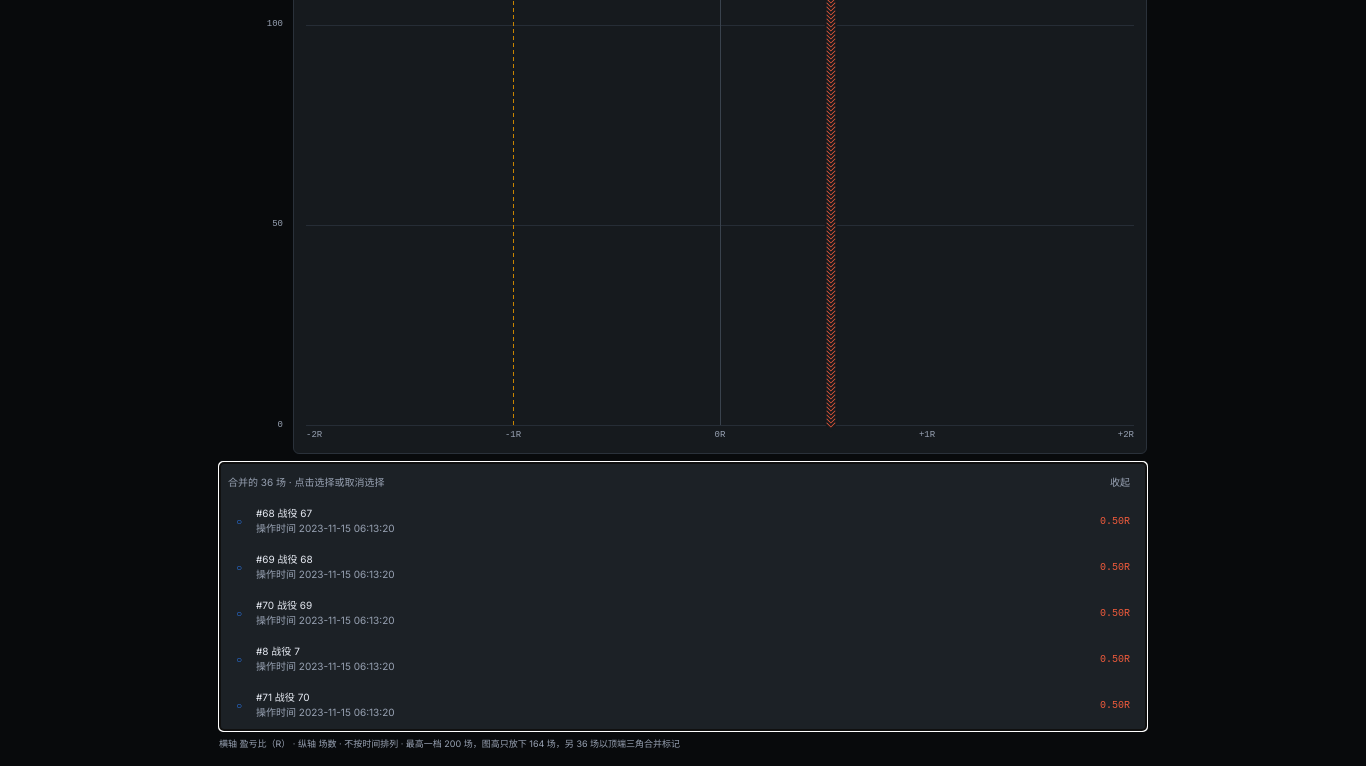
Test case: CampaignMetricScatterPlot batch selection › opens overflow to select actual hidden campaign IDs, including keyboard deselection
Earlier steps of the test are not shown.
(page scrolled)
Step 1. Click the button "○ #68 战役 67 操作时间 2023-11-15 06:13:20 0.50R" → x=284, y=513, box [228,498,1138,544]
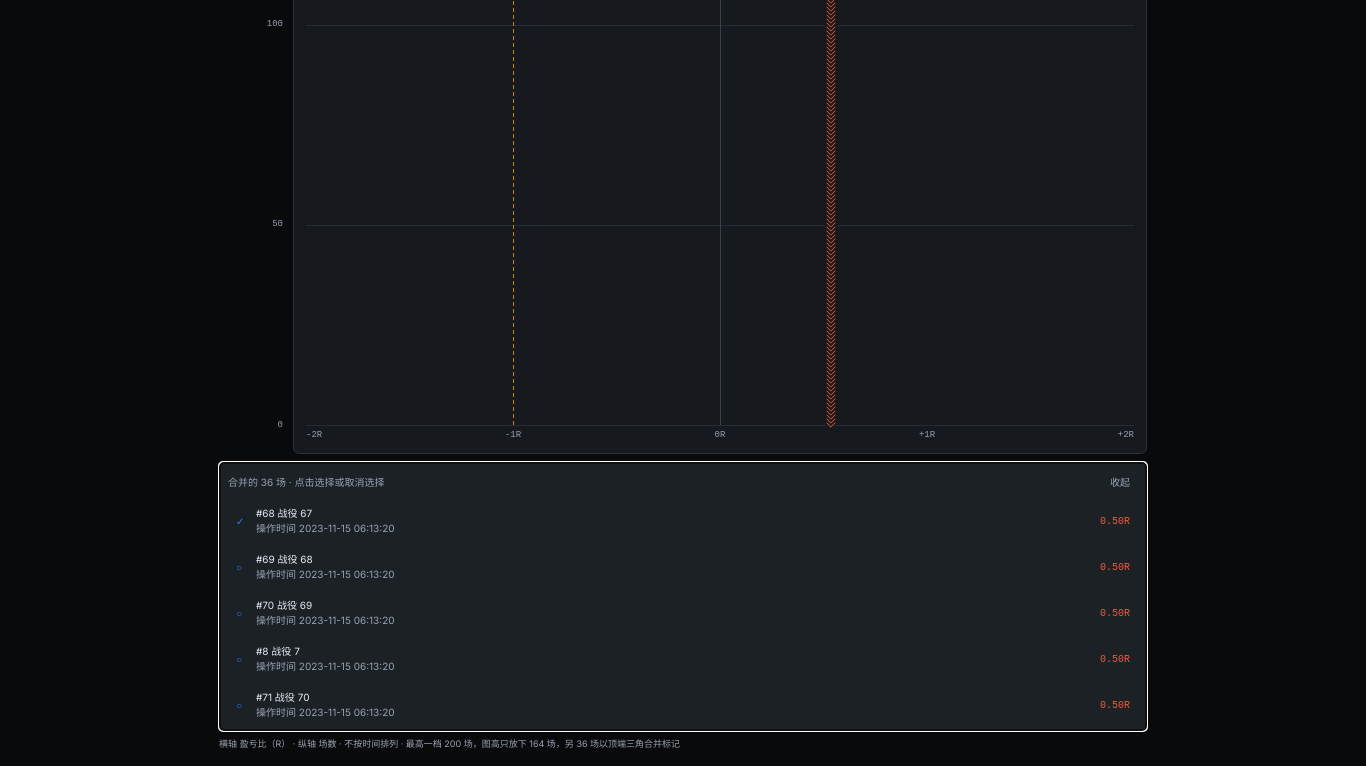
Step 2. Press Space in the button "✓ #68 战役 67 操作时间 2023-11-15 06:13:20 0.50R", box [228,498,1138,544]
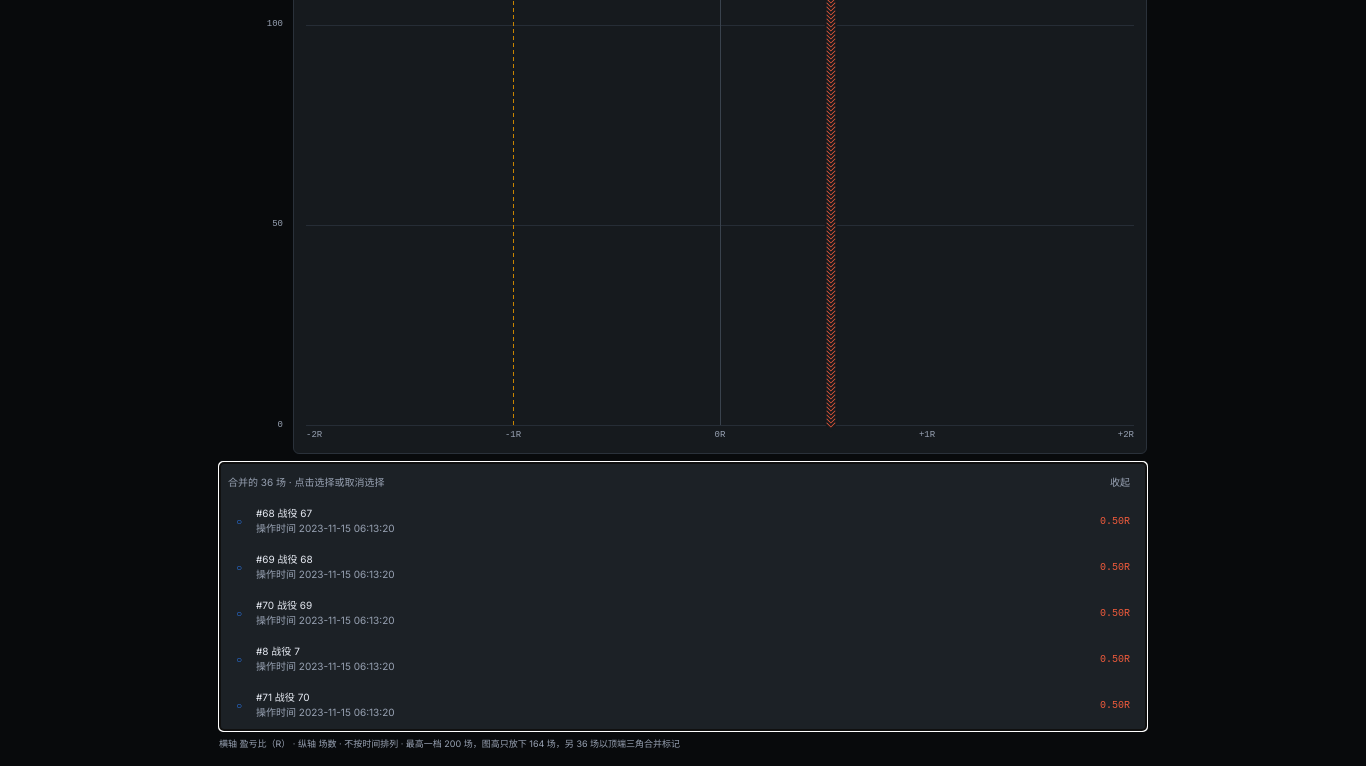
Step 3. Press Enter in the button "○ #68 战役 67 操作时间 2023-11-15 06:13:20 0.50R", box [228,498,1138,544]
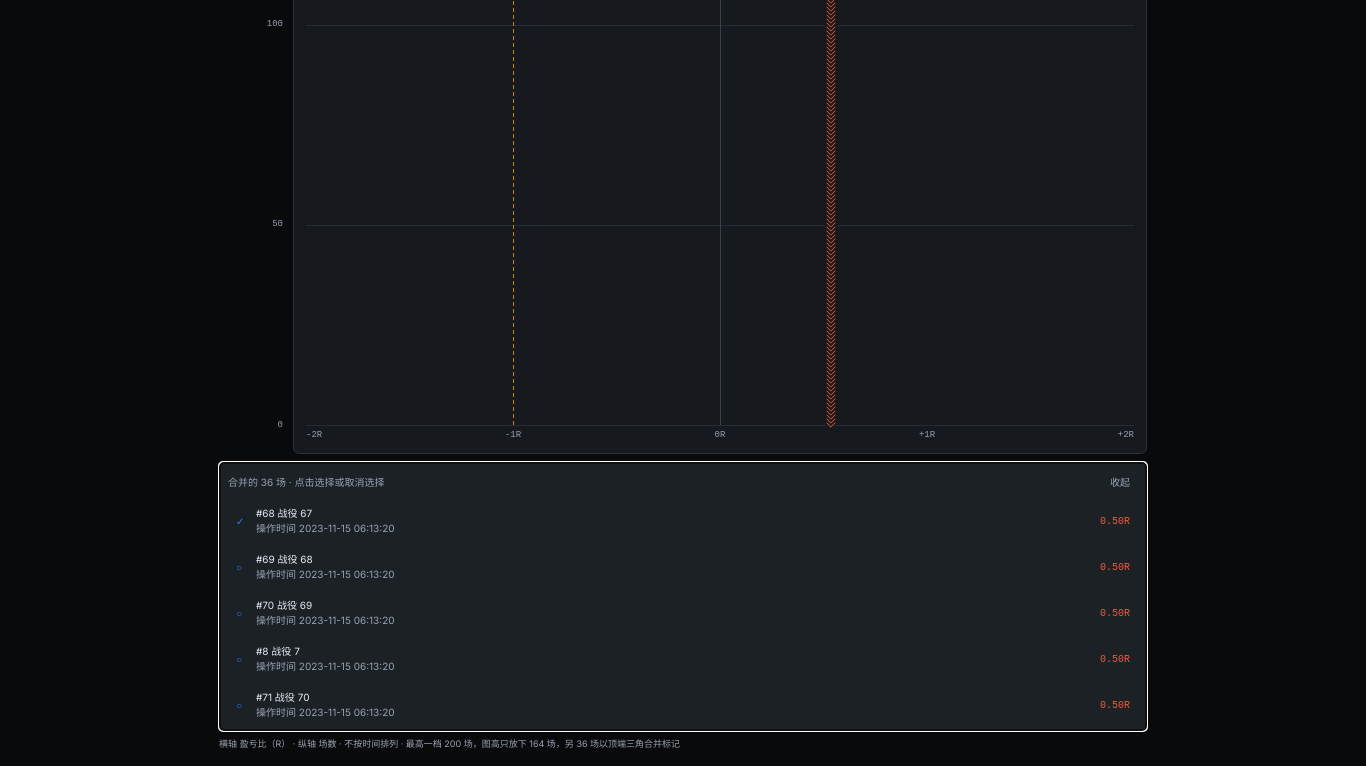
Step 4. Click the button "收起" → x=1120, y=482, box [1102,471,1138,494]
(page scrolled)
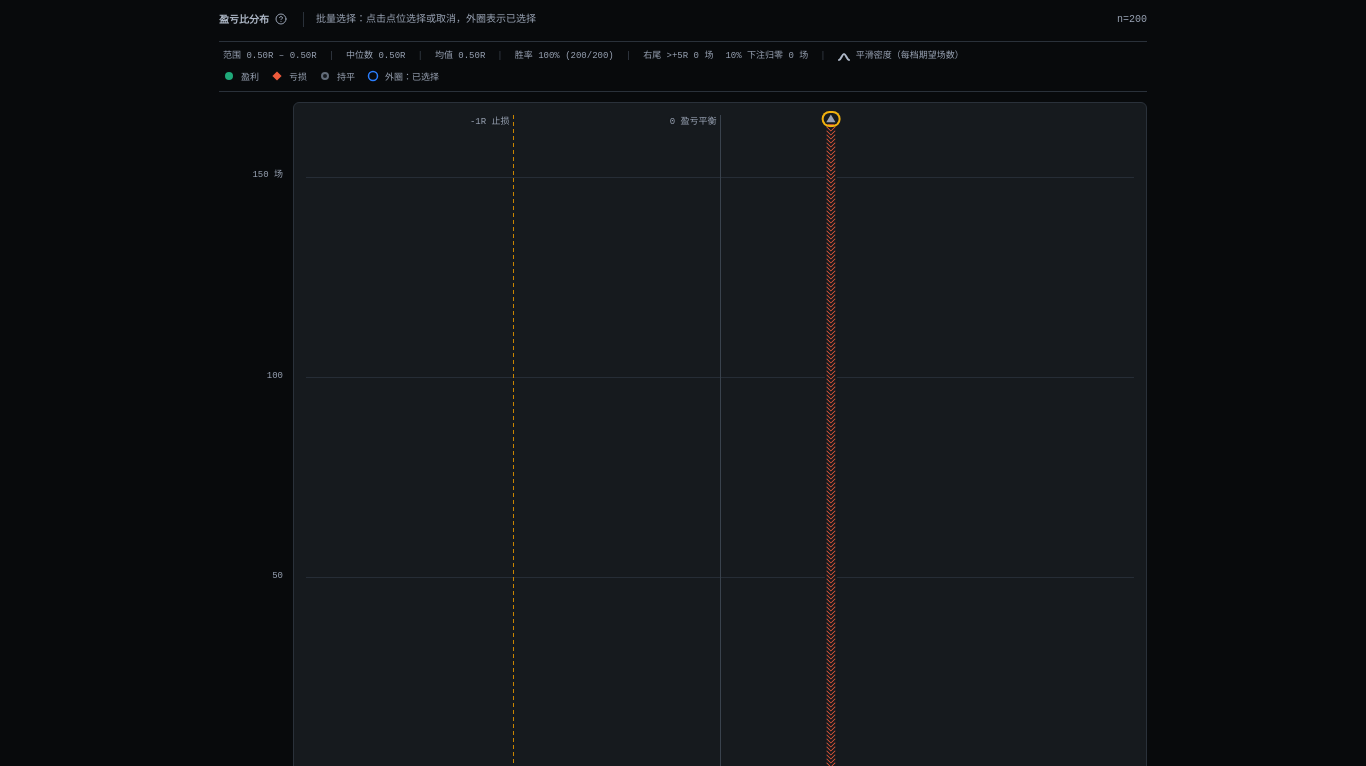
Result: the element with test id "chart-overflow-picker" is gone
Step 5. Click the button with test id "chart-stack-overflow-hit" → x=831, y=119, box [824,113,838,125]
(page scrolled)
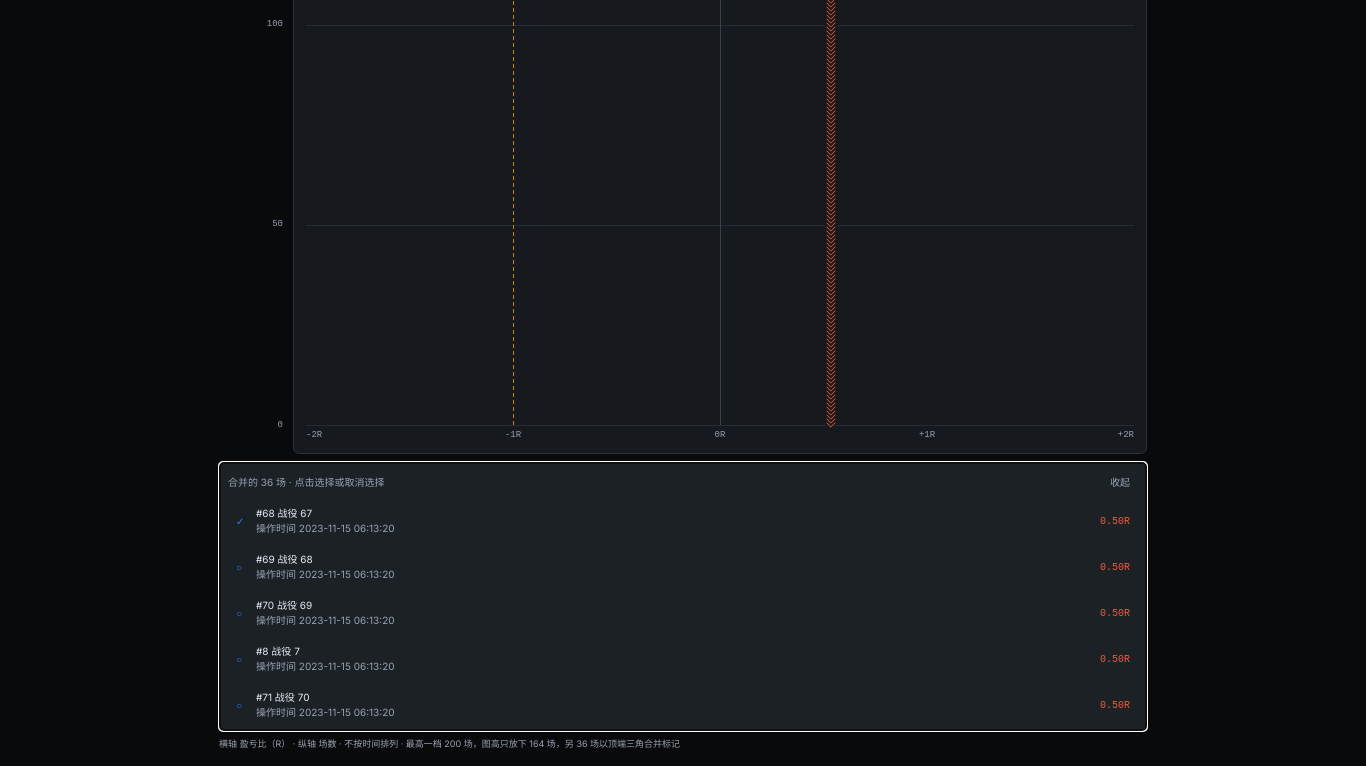
Step 6. Press Escape in the element with test id "chart-overflow-picker", box [219,462,1147,731]
(page scrolled)
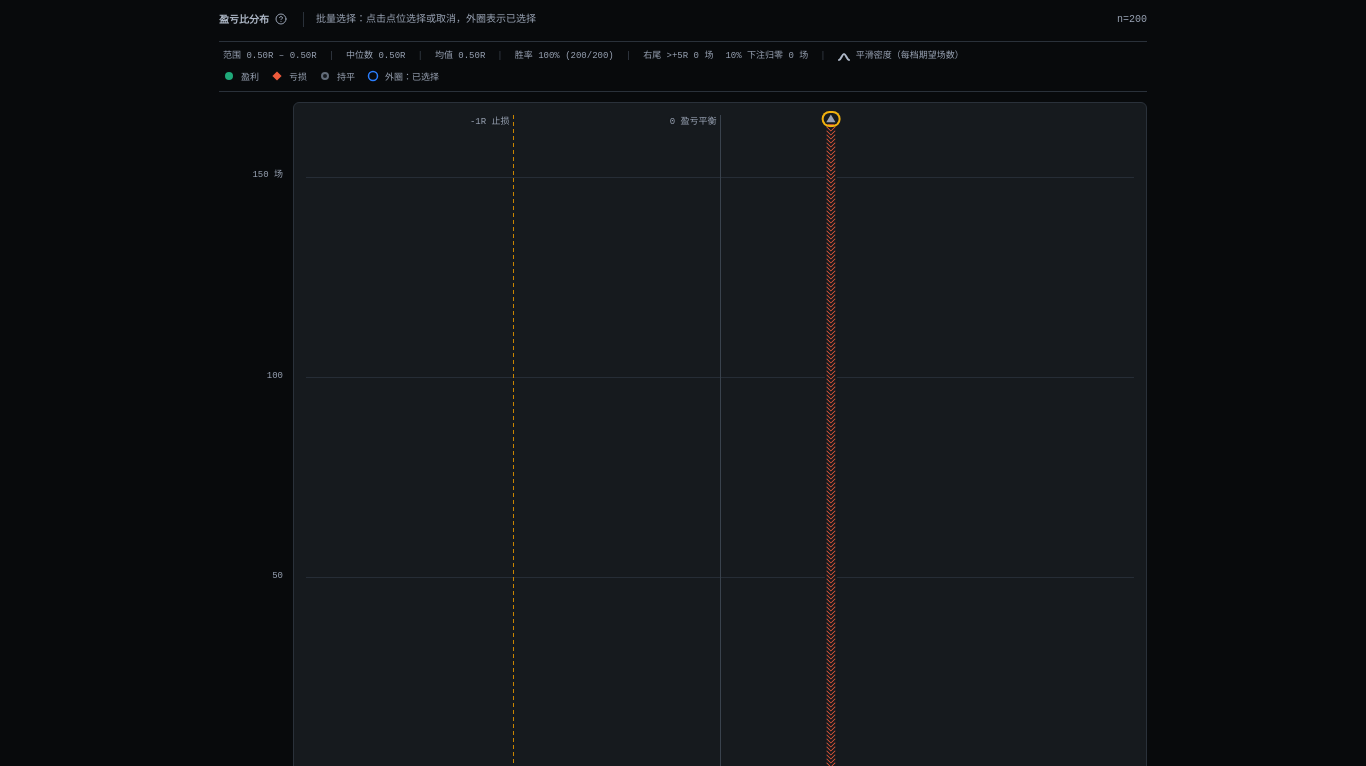
Result: the element with test id "chart-overflow-picker" is gone
